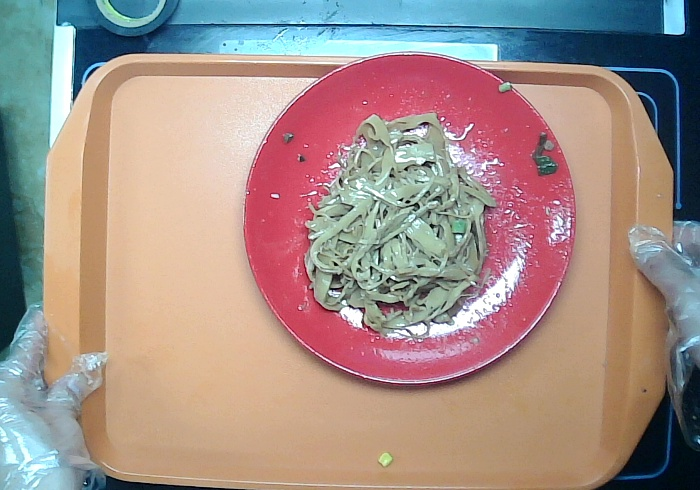HZYJPL-Hong_Se_Yuan_Pan: (242, 50, 581, 390)
